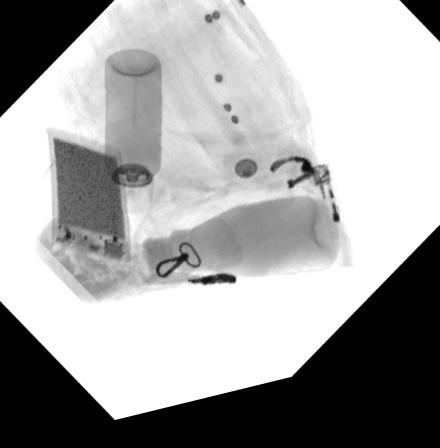Lighter: (310, 179, 347, 262)
Powerbank: (48, 130, 132, 271)
Sprayer: (105, 54, 161, 221)
